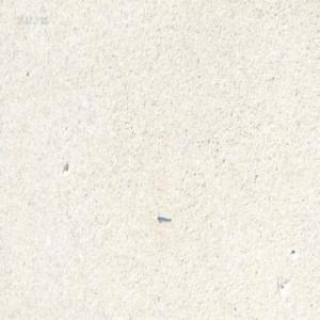Nailtrack_idkeyframe: (156, 211, 170, 221)
